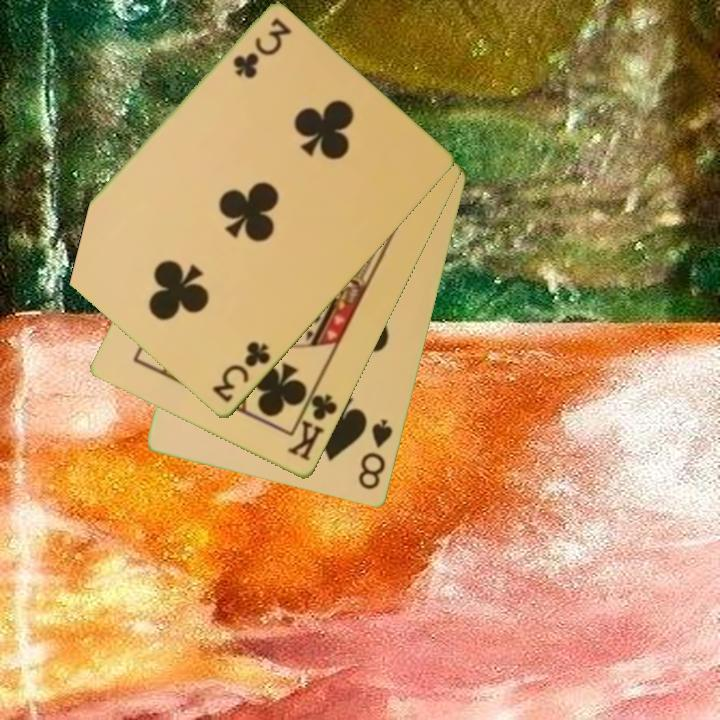3c: (208, 338, 274, 406), (229, 14, 293, 81)
8s: (355, 416, 396, 493)
Kc: (284, 382, 341, 465)
